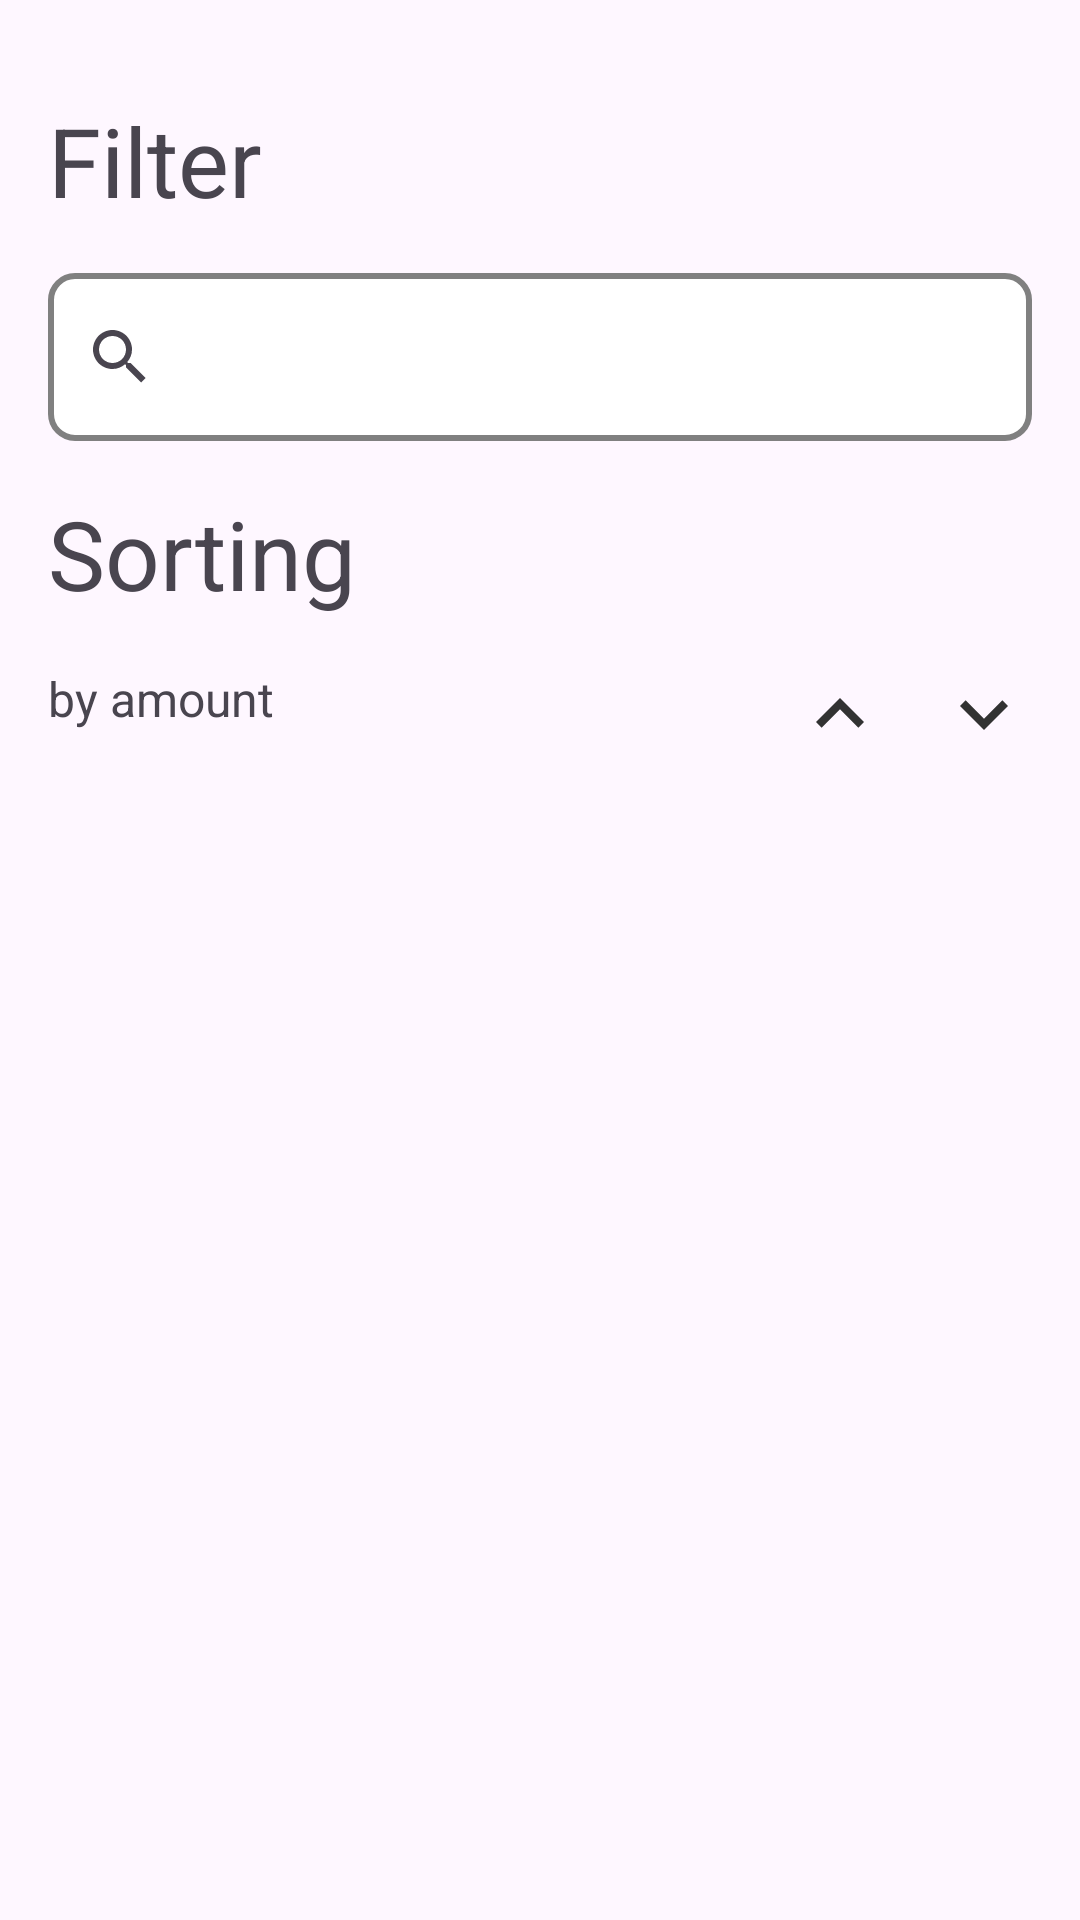

Screen size 1080px x 1920px. Icon name, then its center in pixels as point (x, y):
arrow down: point (984, 715)
arrow up: point (840, 713)
